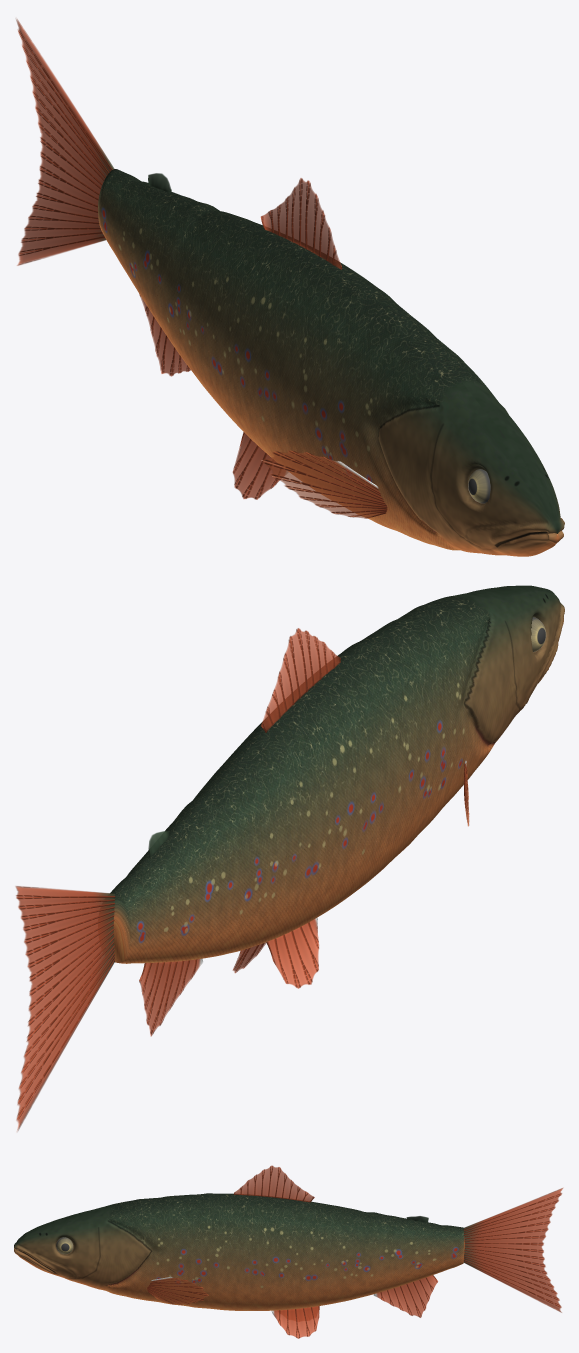
File: pstrag_zrodlany.glb
3 views of the same model, one above another, from view 1: azimuth 30°, elevation 25°; view 2: azimuth 150°, elevation 25°; view 3: azimuth 270°, elevation 25° (orthographic). The views are drawn at different scales.
Visible parts, largest first — view 1: Body, FinCaudal, FinPectoral, FinDorsal1, FinPelvic, FinAnal; view 2: Body, FinCaudal, FinDorsal1, FinPelvic, FinAnal; view 3: Body, FinCaudal, FinDorsal1, FinAnal, FinPectoral, FinPelvic, EyeRight.
Part boxes in pixels (<box>): Body: <box>98,169,564,556</box>; FinCaudal: <box>16,19,114,265</box>; FinPectoral: <box>261,450,387,518</box>; FinDorsal1: <box>260,178,342,269</box>; FinPelvic: <box>232,432,288,499</box>; FinAnal: <box>139,294,190,376</box>; Body: <box>110,585,564,963</box>; FinCaudal: <box>15,886,115,1131</box>; FinDorsal1: <box>261,628,340,732</box>; FinPelvic: <box>232,917,318,988</box>; FinAnal: <box>139,958,203,1036</box>; Body: <box>14,1193,464,1310</box>; FinCaudal: <box>463,1188,562,1312</box>; FinDorsal1: <box>233,1165,314,1202</box>; FinAnal: <box>373,1275,437,1317</box>; FinPectoral: <box>147,1276,208,1304</box>; FinPelvic: <box>271,1306,319,1338</box>; EyeRight: <box>56,1237,72,1254</box>.
Bounding box in the file's own units: 0.2225 × 0.3361 × 1.01.
9 materials, 8 textured.
